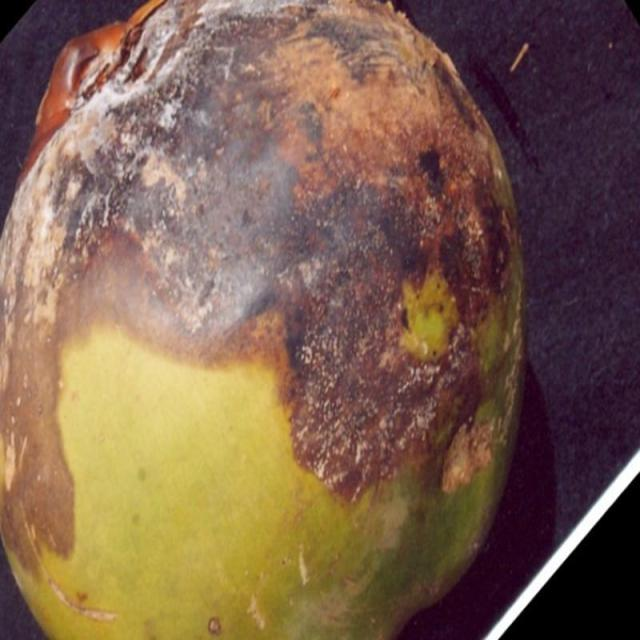damaged: (0, 0, 530, 639)
